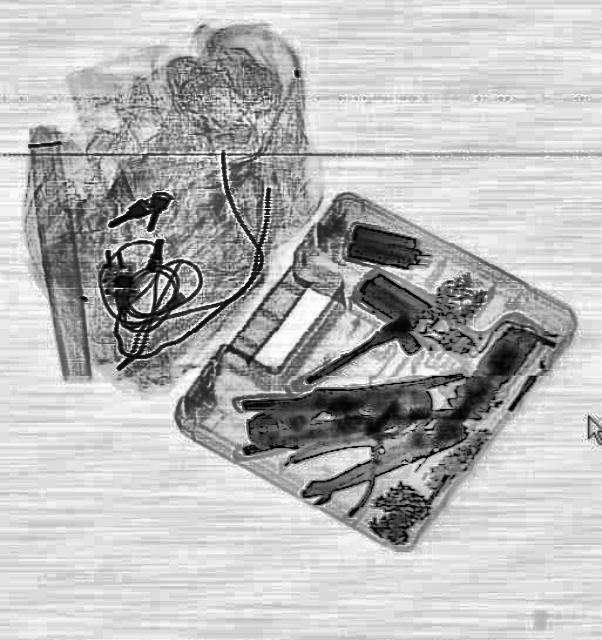Pliers: (278, 394, 473, 504), (233, 375, 435, 461), (242, 380, 404, 456)
Wrench: (302, 442, 400, 506)
